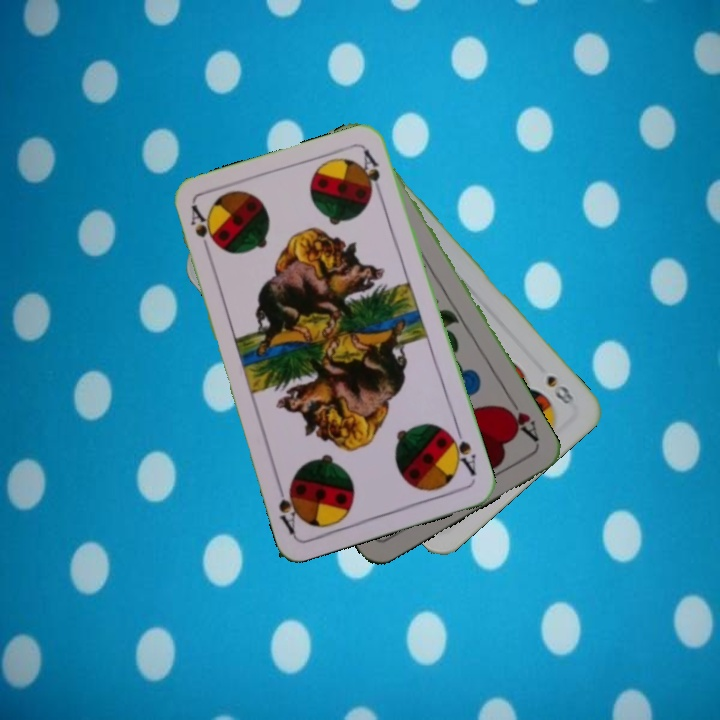HA: (498, 393, 542, 445)
S8: (542, 371, 579, 409)
SA: (443, 423, 479, 479), (186, 201, 219, 259)
